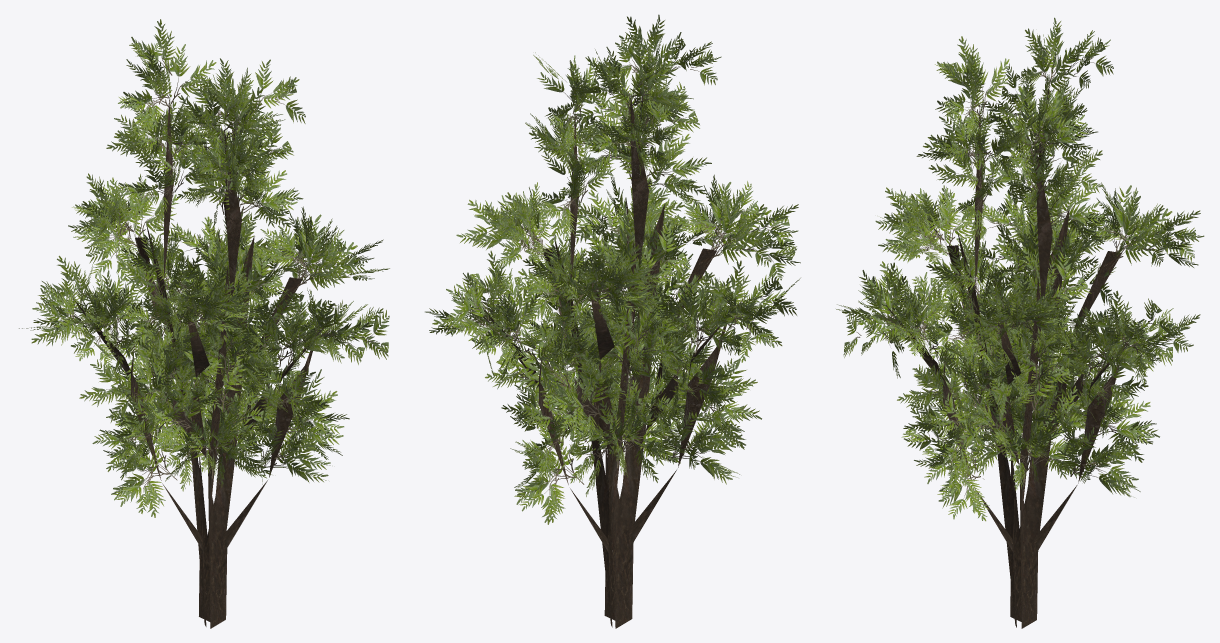
The model's file is tree-1-far.glb.
3 views of the same model, side by side, from view 1: azimuth 30°, elevation 25°; view 2: azimuth 150°, elevation 25°; view 3: azimuth 270°, elevation 25° (orthographic). The views are drawn at different scales.
Visible parts, largest first — view 1: Object_5346.001, Object_5344.001; view 2: Object_5346.001, Object_5344.001; view 3: Object_5346.001, Object_5344.001.
Part boxes in pixels (<box>): Object_5346.001: <box>19,19,389,517</box>; Object_5344.001: <box>73,98,333,628</box>; Object_5346.001: <box>425,14,800,524</box>; Object_5344.001: <box>482,84,746,628</box>; Object_5346.001: <box>836,17,1204,521</box>; Object_5344.001: <box>887,89,1142,628</box>.
Bounding box in the file's own units: 4.75 × 7.93 × 4.48.
Materials: 2 (2 with a texture image).
